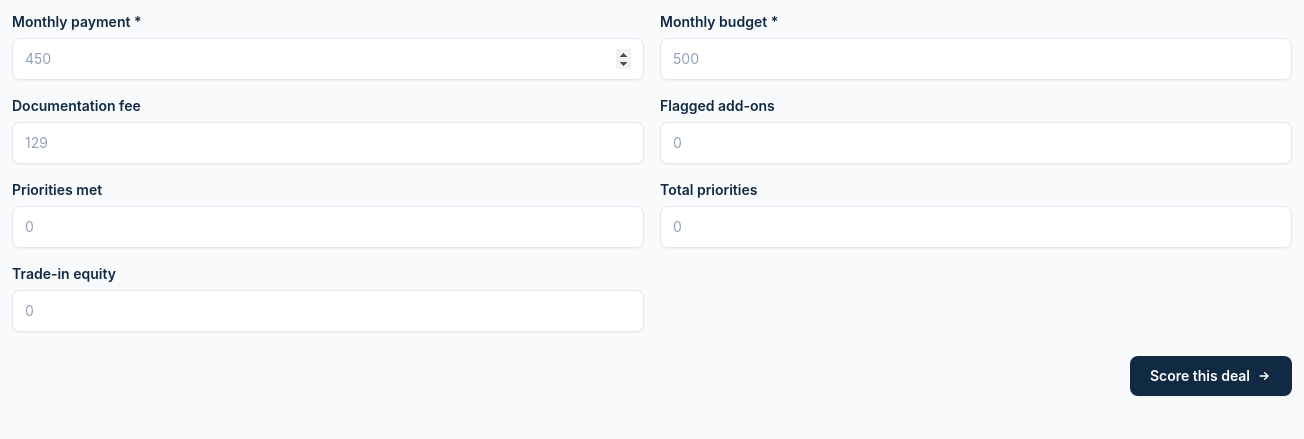
Test: DealScoreCard › requires payment and budget
Click the button "Score this deal" at (1211, 376), box [1130,356,1292,396]
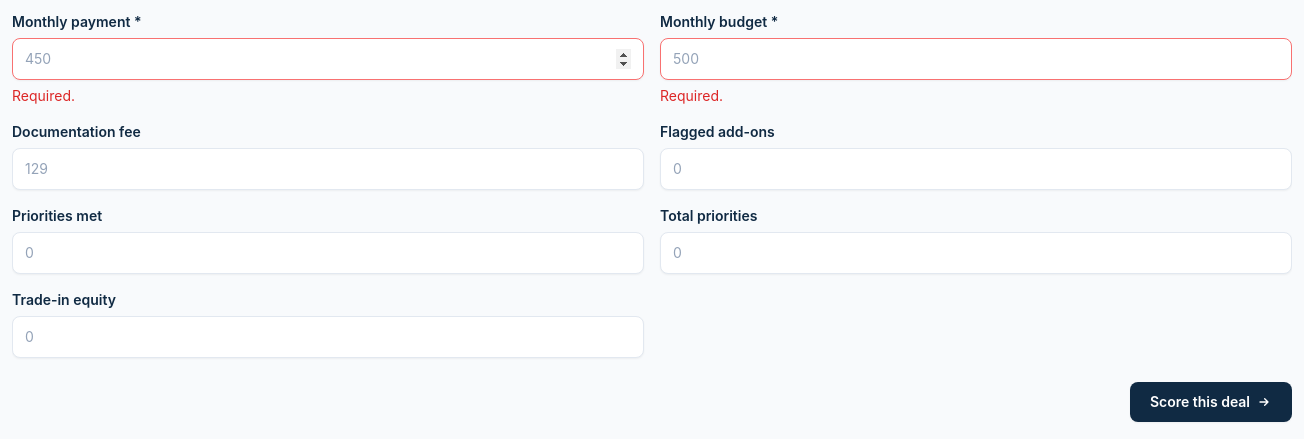
Check: the text "Required." is shown 2 times, box [12,87,75,104]; [660,87,723,104]
